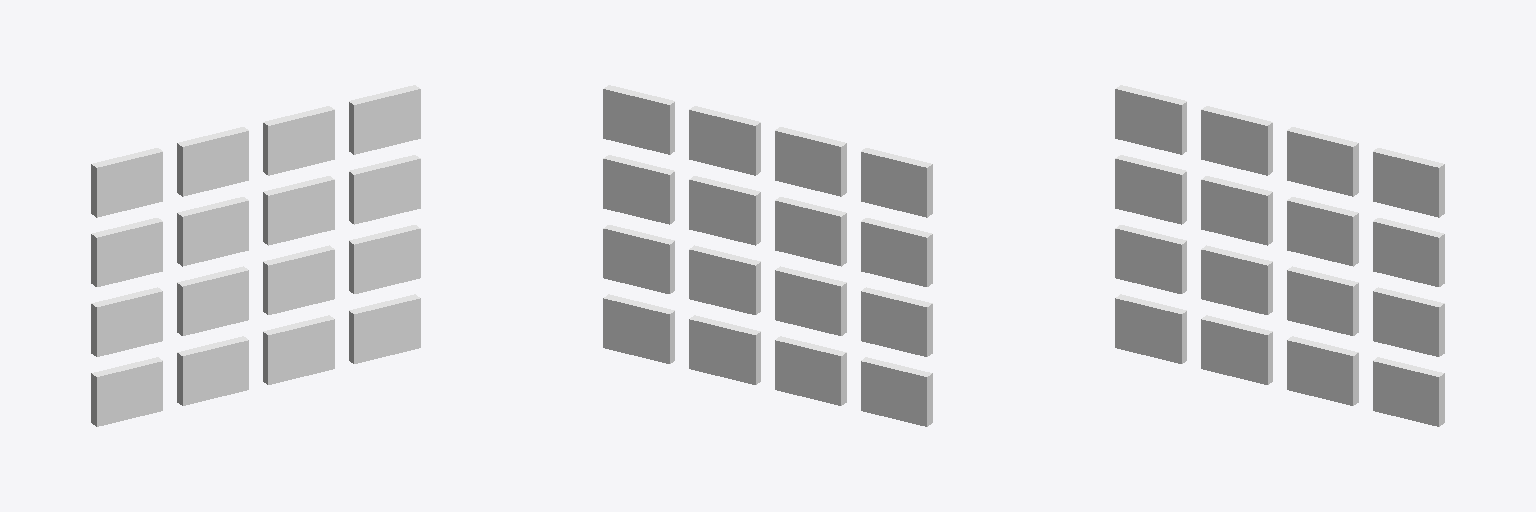
Rendered from koodi2.obj.
The picture shows the model from 3 angles: view 1: azimuth 30°, elevation 25°; view 2: azimuth 150°, elevation 25°; view 3: azimuth 330°, elevation 25°; orthographic projection.
Visible parts, largest first — view 1: koodi2; view 2: koodi2; view 3: koodi2.
Part boxes in pixels (x1,y1,x2,y2): koodi2: (91, 85, 420, 426); koodi2: (603, 85, 932, 426); koodi2: (1115, 85, 1444, 426).
Size of the model in its own units: 34 by 26 by 1.